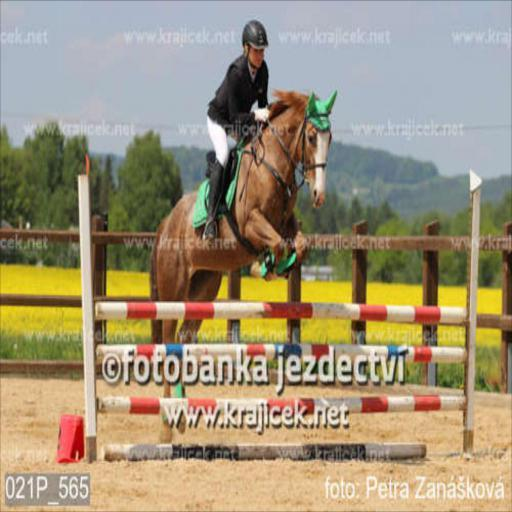horse: (147, 86, 340, 446)
